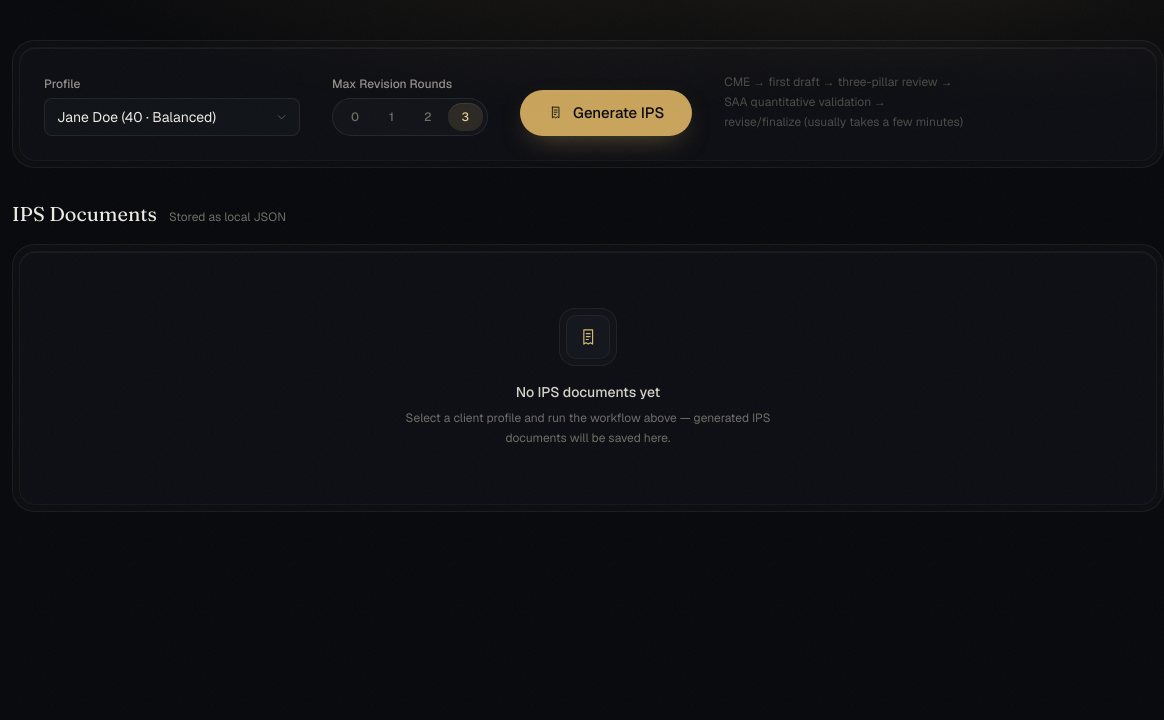
Test: IpsWorkspace generation flow › shows the error message and re-arms the form on an error event
Click the button "Generate IPS": (606, 113) [520,90,692,136]
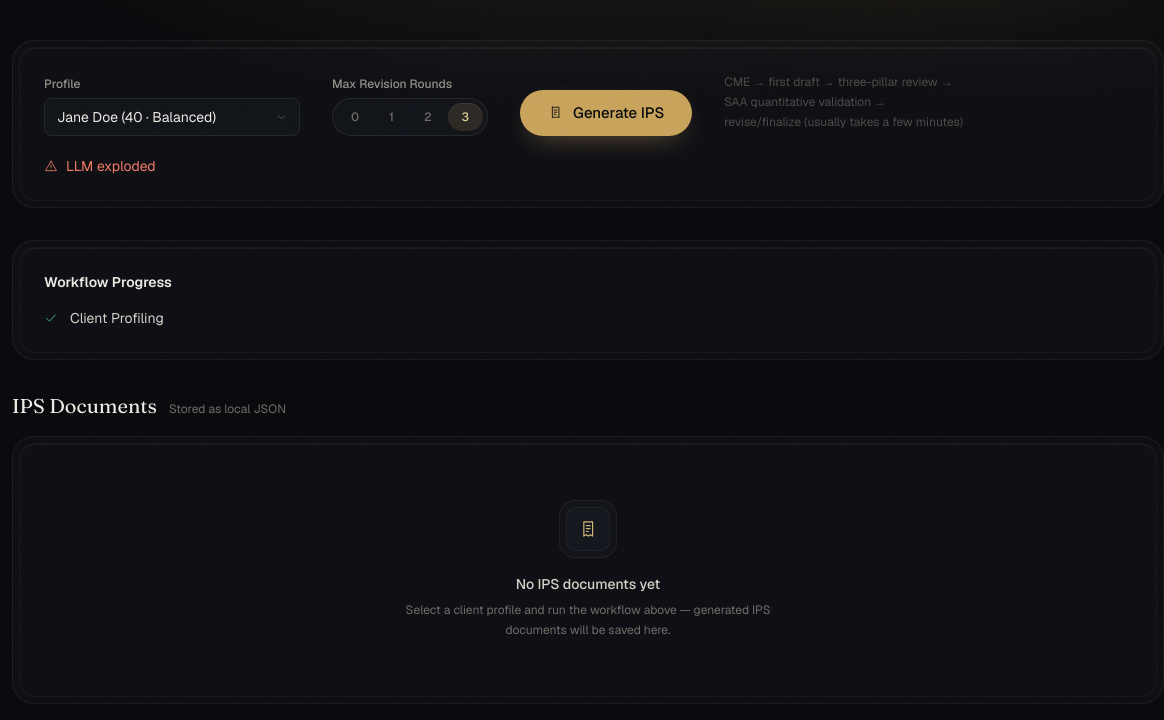
Result: the text "LLM exploded" is shown at [44,157,156,175]
